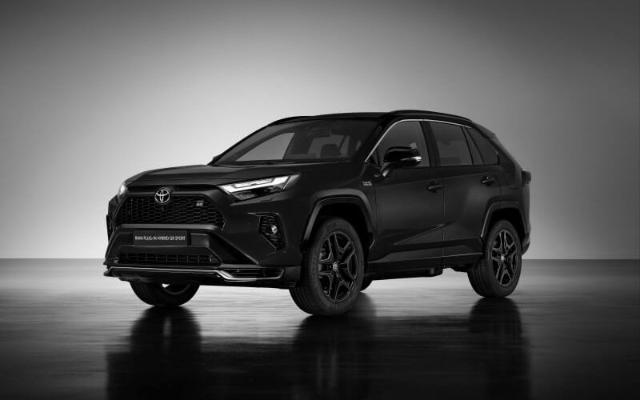suv: (82, 94, 544, 320)
